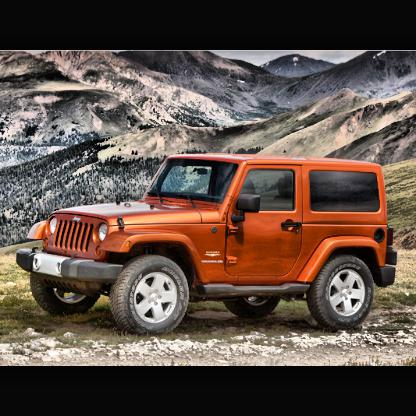Jeep Wrangler SUV 2012: (17, 153, 401, 334)
